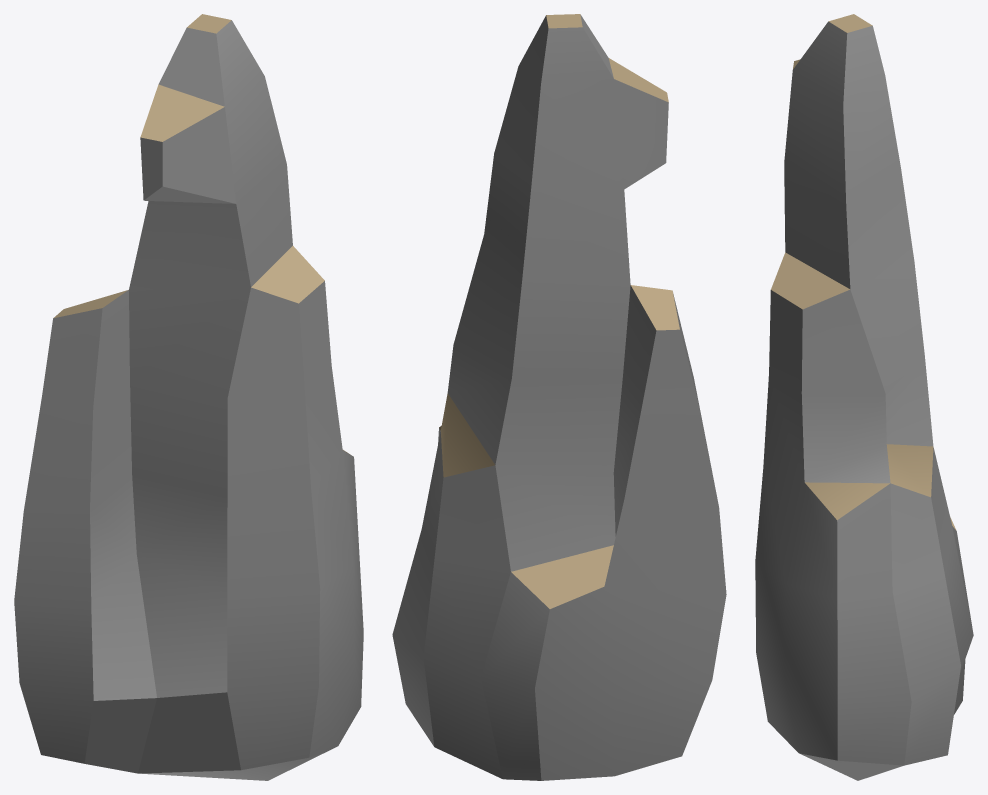
The model's file is rock14.glb.
3 views of the same model, side by side, from view 1: azimuth 30°, elevation 25°; view 2: azimuth 150°, elevation 25°; view 3: azimuth 270°, elevation 25° (orthographic). The views are drawn at different scales.
Parts seen in each view (by area): view 1: rock.038_0; view 2: rock.038_0; view 3: rock.038_0.
Boxes of the visible parts, x1,y1,x2,y2 form: rock.038_0: (14,14,363,780); rock.038_0: (392,14,726,780); rock.038_0: (755,14,973,780).
Bounding box in the file's own units: 5.68 × 12.78 × 3.47.
